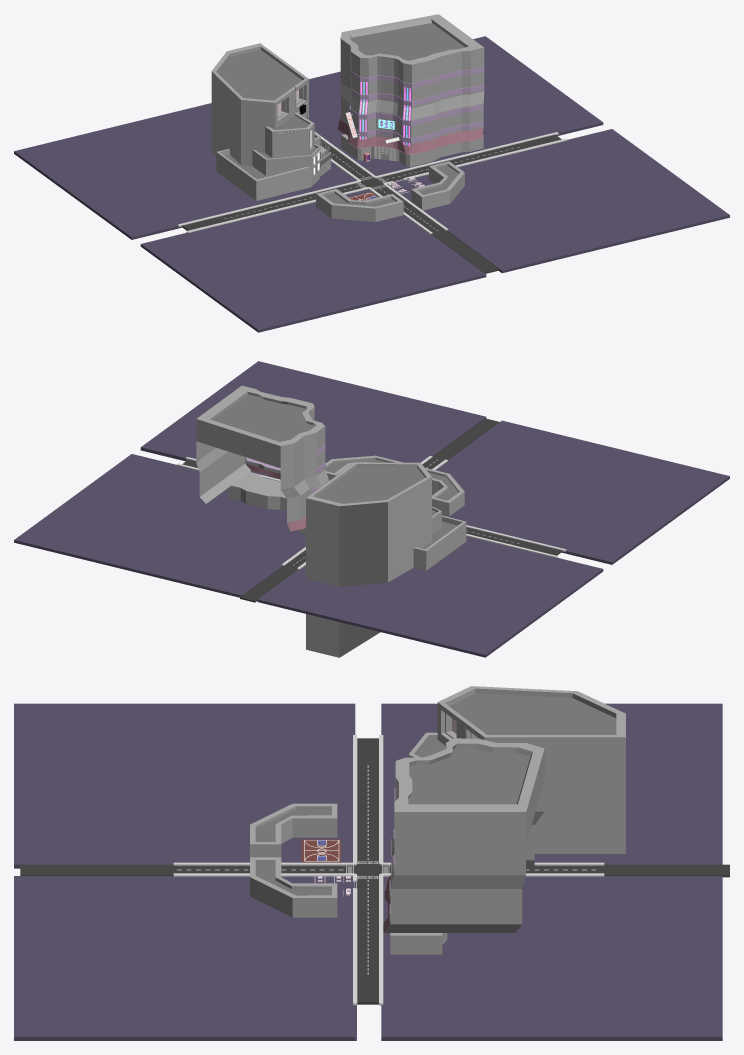
The model's file is PrarieKingFLUSHED.fbx.
The picture shows the model from 3 angles, top to bottom: view 1: azimuth 30°, elevation 25°; view 2: azimuth 150°, elevation 25°; view 3: azimuth 270°, elevation 25°; orthographic projection. The views are drawn at different scales.
Visible parts, largest first — view 1: Cube.308, Cube.311, Cube.309, Cube.180, Cube.233, Cube.235, Cube.208, Cube.413, Cube.229, Cube.210, Cube.230, Cube.169 (+7 smaller); view 2: Cube.308, Cube.233, Cube.309, Cube.235, Cube.311, Cube.180, Cube.210, Cube.306, Cube.208, Cube.230, Cube.229, Cube.440; view 3: Cube.311, Cube.308, Cube.233, Cube.180, Cube.309, Cube.235, Cube.210, Cube.229, Cube.440, Cube.230, Cube.140, Cube.137 (+6 smaller).
Boxes of the visible parts, bbox=[...] form: Cube.308: bbox=[140, 189, 486, 332]; Cube.311: bbox=[387, 129, 729, 273]; Cube.309: bbox=[14, 103, 356, 239]; Cube.180: bbox=[340, 14, 484, 154]; Cube.233: bbox=[309, 36, 603, 175]; Cube.235: bbox=[211, 43, 308, 165]; Cube.208: bbox=[216, 132, 320, 200]; Cube.413: bbox=[349, 66, 484, 143]; Cube.229: bbox=[181, 134, 561, 230]; Cube.210: bbox=[320, 139, 499, 273]; Cube.230: bbox=[316, 189, 403, 221]; Cube.169: bbox=[265, 112, 330, 176]; Cube.308: bbox=[432, 420, 729, 564]; Cube.233: bbox=[14, 454, 305, 597]; Cube.309: bbox=[257, 536, 603, 657]; Cube.235: bbox=[306, 462, 431, 657]; Cube.311: bbox=[140, 361, 486, 479]; Cube.180: bbox=[196, 385, 328, 522]; Cube.210: bbox=[240, 418, 499, 602]; Cube.306: bbox=[227, 472, 286, 511]; Cube.208: bbox=[413, 506, 466, 570]; Cube.230: bbox=[425, 468, 464, 516]; Cube.229: bbox=[182, 459, 562, 555]; Cube.440: bbox=[325, 455, 402, 480]; Cube.311: bbox=[14, 876, 356, 1040]; Cube.308: bbox=[14, 703, 355, 868]; Cube.233: bbox=[381, 876, 722, 1040]; Cube.180: bbox=[383, 738, 544, 932]; Cube.309: bbox=[381, 703, 722, 864]; Cube.235: bbox=[437, 686, 625, 853]; Cube.210: bbox=[20, 864, 729, 877]; Cube.229: bbox=[355, 738, 380, 1004]; Cube.440: bbox=[250, 857, 337, 917]; Cube.230: bbox=[250, 803, 337, 857]; Cube.140: bbox=[173, 735, 357, 865]; Cube.137: bbox=[173, 873, 357, 1005].
Bounding box in the file's own units: 66393 × 22938 × 60230.
